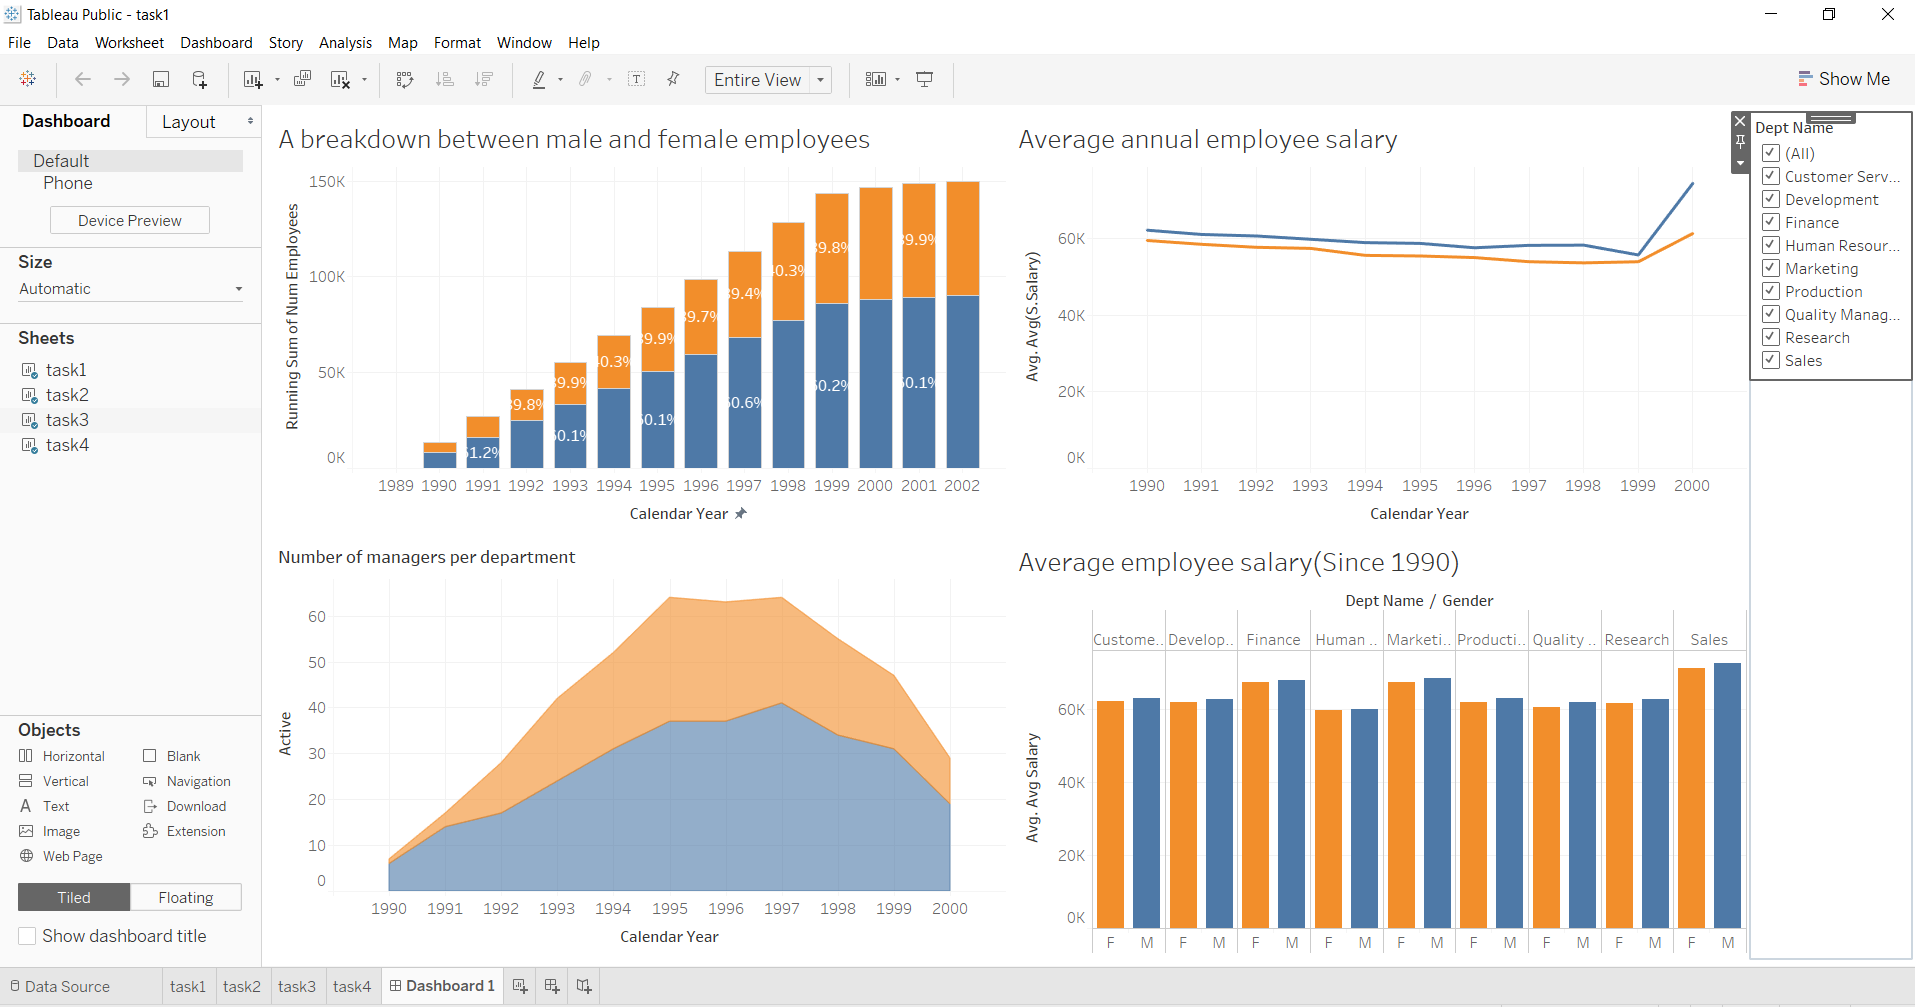

This screenshot's page, from the dashboard's own definition file:
{"tool":"tableau","page":{"name":"Dashboard 1","canvas":[1000,1000],"units":"permille","ordinal":0},"visuals":[{"type":"worksheet","box":[0,0,1000,1000]},{"type":"worksheet","param":"horz","box":[4.8,9.3,990.5,981.4]},{"type":"worksheet","param":"horz","box":[4.8,9.3,895.1,981.4]},{"type":"worksheet","box":[4.8,9.3,895.1,981.4]},{"type":"worksheet","title":"task1","mark":"Bar","rows":["num_employees"],"cols":["calendar_year"],"box":[4.8,9.3,447.6,490.7]},{"type":"worksheet","title":"task3","mark":"Automatic","rows":["avg(s.salary)"],"cols":["calendar_year"],"box":[452.3,9.3,447.6,490.7]},{"type":"worksheet","param":"vert","box":[899.9,9.3,95.4,981.4]},{"type":"worksheet","title":"task3","mark":"Automatic","rows":["avg(s.salary)"],"cols":["calendar_year"],"param":"[federated.0fbxr0x1hq1cfo184af860mysdvl].[none:dept_name:nk]","box":[899.9,9.3,95.4,308.9]},{"type":"worksheet","title":"task2","mark":"Area","rows":["active"],"cols":["calendar_year"],"box":[4.8,500,447.6,490.7]},{"type":"worksheet","title":"task4","mark":"Bar","rows":["avg_salary"],"cols":["dept_name","gender"],"box":[452.3,500,447.6,490.7]}]}

Visuals, with their boxes on the dashboard's canvas, which has no fixed pixel size, in thousandths of its width and height (x1, y1, x2, y2). These are canvas units, not pixel positions in the 1915x1007 screenshot, which may show the page scaled, cropped or inside an application window:
worksheet: {"x1": 0, "y1": 0, "x2": 1000, "y2": 1000}
worksheet: {"x1": 5, "y1": 9, "x2": 995, "y2": 991}
worksheet: {"x1": 5, "y1": 9, "x2": 900, "y2": 991}
worksheet: {"x1": 5, "y1": 9, "x2": 900, "y2": 991}
"task1" worksheet (Bar marks): {"x1": 5, "y1": 9, "x2": 452, "y2": 500}
"task3" worksheet: {"x1": 452, "y1": 9, "x2": 900, "y2": 500}
worksheet: {"x1": 900, "y1": 9, "x2": 995, "y2": 991}
"task3" worksheet: {"x1": 900, "y1": 9, "x2": 995, "y2": 318}
"task2" worksheet (Area marks): {"x1": 5, "y1": 500, "x2": 452, "y2": 991}
"task4" worksheet (Bar marks): {"x1": 452, "y1": 500, "x2": 900, "y2": 991}
